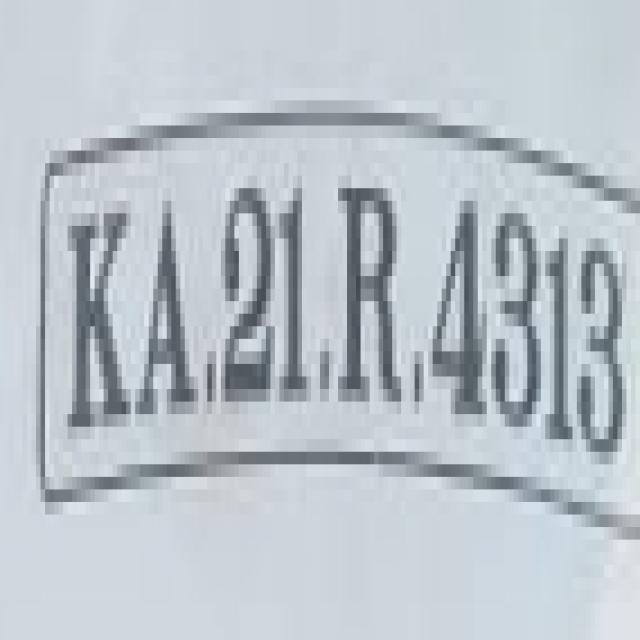1: (277, 164, 310, 418), (542, 225, 574, 452)
3: (574, 230, 628, 466), (492, 182, 540, 442)
4: (428, 180, 488, 427)
A: (136, 191, 200, 427)
K: (63, 182, 134, 442)
R: (333, 157, 406, 426)
